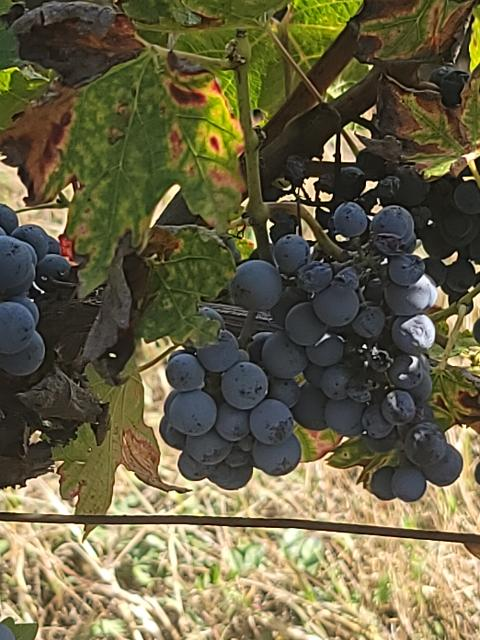grapes: (230, 201, 461, 500), (160, 329, 301, 490)
